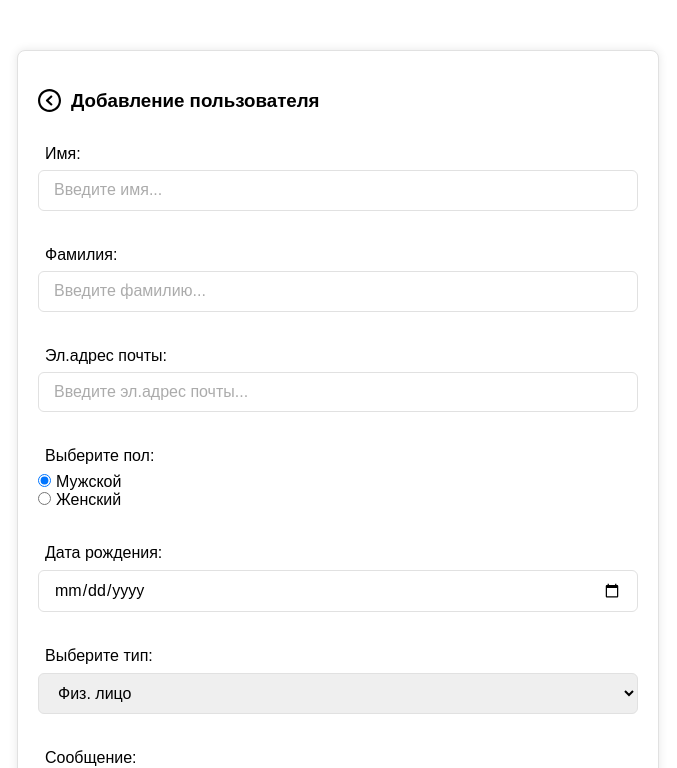
Test: Проверка компонента UserForm › Проверка при совпадении полей firstName и lastName
Type "Тест" into the field with placeholder "Введите имя..." at (338, 190), box [38,170,638,211]
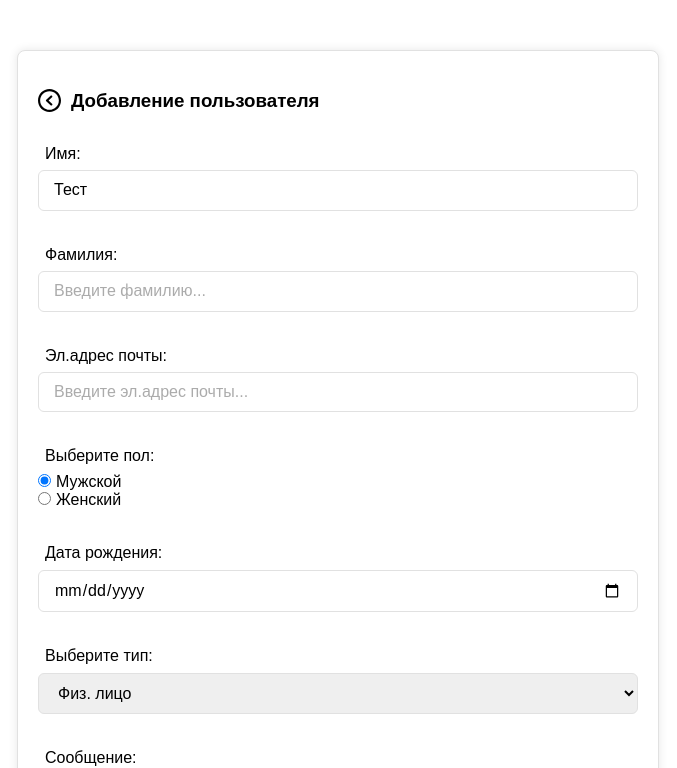
Type "Тест" into the field with placeholder "Введите фамилию..." at (338, 291), box [38,271,638,312]
(page scrolled)
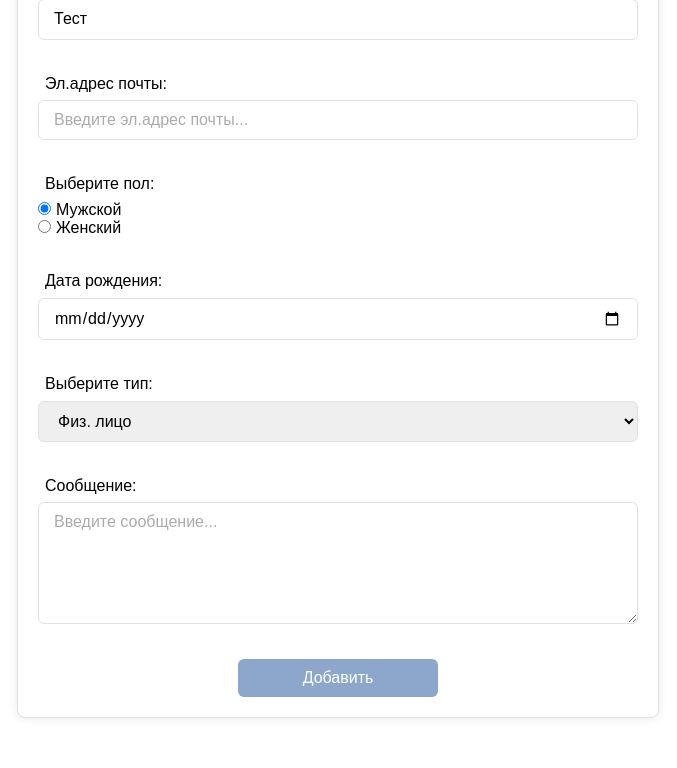
Click the button "Добавить" at (338, 678), box [238,659,438,697]
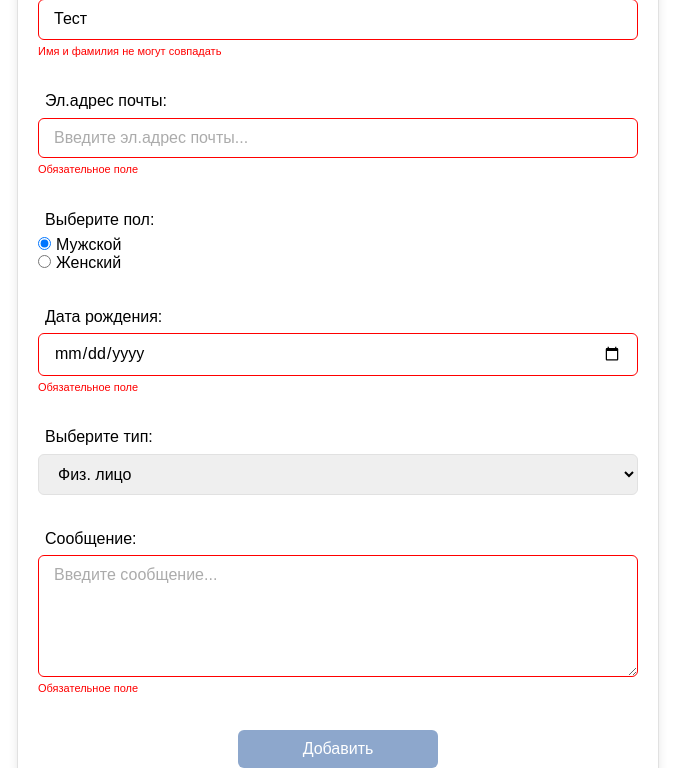
Result: the text "Имя и фамилия не могут совпадать" is shown at [38,44,221,56]
